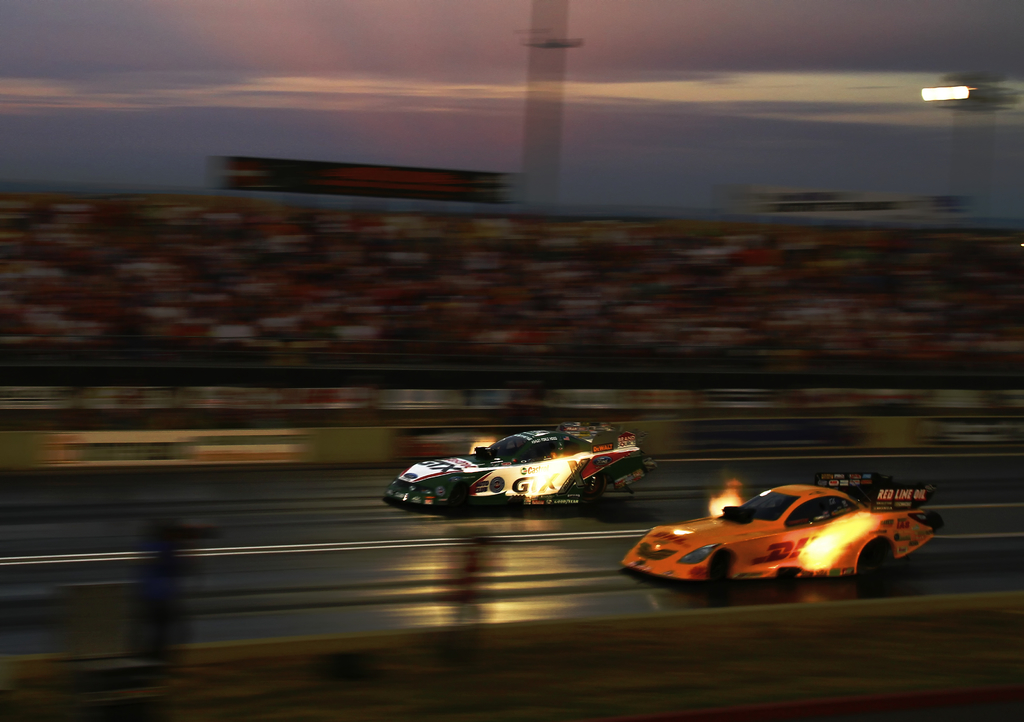Car: (618, 474, 938, 582), (385, 423, 653, 508)
